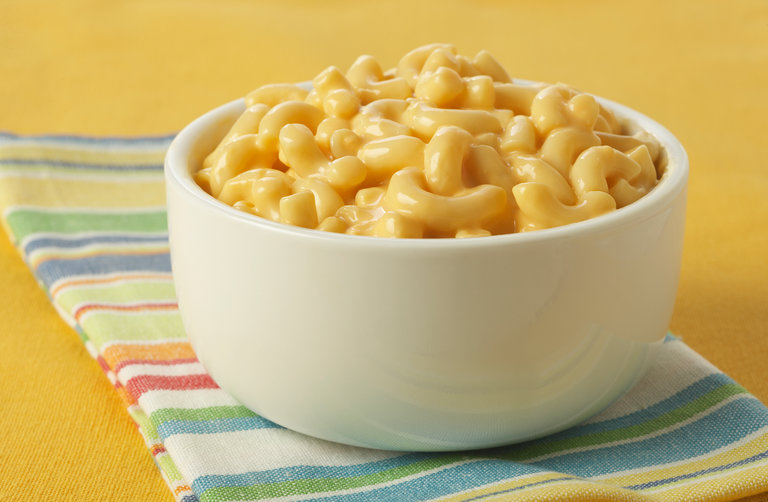macncheese: (196, 40, 669, 239)
